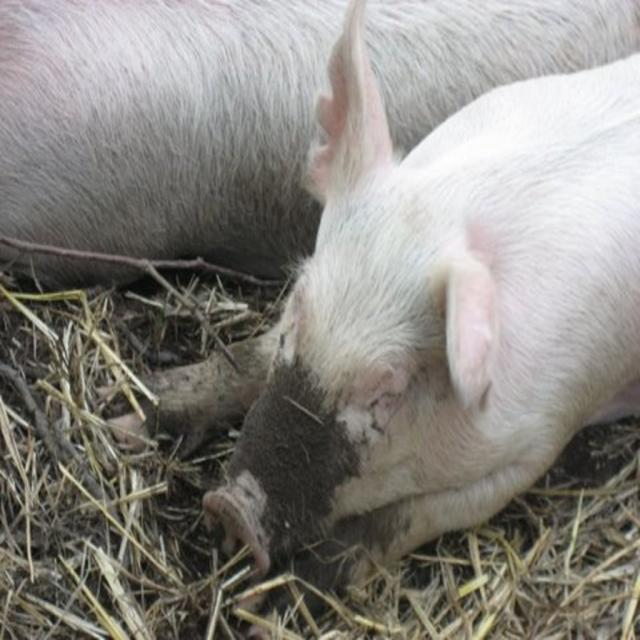Pig: (102, 0, 638, 636), (0, 0, 639, 281)
